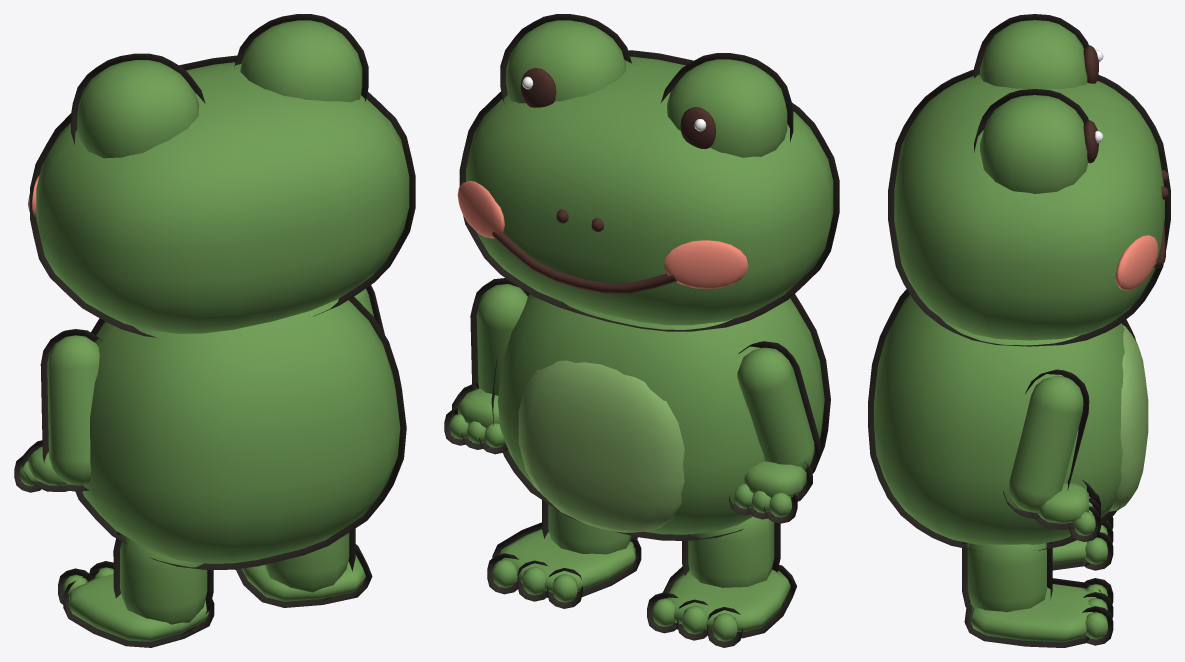
The model's file is frog.glb.
3 renders of one model, left to right at view 1: azimuth 30°, elevation 25°; view 2: azimuth 150°, elevation 25°; view 3: azimuth 270°, elevation 25°, orthographic. The views are drawn at different scales.
Parts seen in each view (by area): view 1: Head_fur, Torso_fur, LeftLeg_fur, LeftArm_fur, Head_detail, RightLeg_fur, Torso_detail, LeftLeg_detail, LeftArm_detail, RightLeg_detail; view 2: Head_fur, Torso_fur, Torso_belly, Head_detail, LeftLeg_fur, LeftArm_fur, RightLeg_fur, RightArm_fur, LeftLeg_detail, RightLeg_detail, Torso_detail, LeftArm_detail (+3 smaller); view 3: Head_fur, Torso_fur, RightLeg_fur, RightArm_fur, Head_detail, Torso_belly, RightLeg_detail, Torso_detail, RightArm_detail, LeftLeg_fur, LeftLeg_detail, RightEye_detail (+1 smaller).
Boxes of the visible parts, x1,y1,x2,y2 form: Head_fur: (36, 20, 409, 333); Torso_fur: (82, 299, 400, 563); LeftLeg_fur: (63, 535, 208, 641); LeftArm_fur: (20, 335, 99, 486); Head_detail: (28, 14, 415, 337); RightLeg_fur: (242, 533, 365, 601); Torso_detail: (75, 297, 406, 569); LeftLeg_detail: (58, 532, 214, 647); LeftArm_detail: (14, 329, 102, 492); RightLeg_detail: (235, 528, 372, 607); Head_fur: (466, 20, 833, 325); Torso_fur: (498, 294, 824, 534); Torso_belly: (518, 360, 684, 532); Head_detail: (457, 14, 839, 331); LeftLeg_fur: (652, 516, 790, 641); LeftArm_fur: (734, 347, 814, 517); RightLeg_fur: (492, 504, 635, 602); RightArm_fur: (449, 284, 527, 447); LeftLeg_detail: (647, 522, 796, 647); RightLeg_detail: (487, 500, 641, 608); Torso_detail: (491, 291, 830, 540); LeftArm_detail: (729, 341, 820, 523); Head_fur: (894, 20, 1164, 340); Torso_fur: (874, 294, 1124, 544); RightLeg_fur: (967, 543, 1107, 642); RightArm_fur: (1009, 375, 1095, 535); Head_detail: (888, 14, 1170, 346); Torso_belly: (1109, 324, 1148, 511); RightLeg_detail: (962, 542, 1113, 647); Torso_detail: (868, 289, 1146, 550); RightArm_detail: (1003, 369, 1100, 541); LeftLeg_fur: (1052, 520, 1107, 564); LeftLeg_detail: (1052, 516, 1113, 570); RightEye_detail: (1083, 120, 1103, 163).
Size of the model in its own units: 3.76 by 5.68 by 2.91.
Materials: 8 (1 with a texture image).
